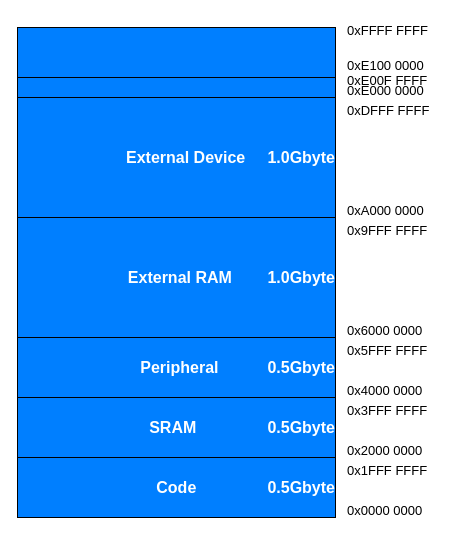
This 463x536 diagram has some shape labels left out. The centre of each missing label's shape, as x and y in pixels:
"Private perpheral bus 1Mbyte" goes at point 176,87.
"Vendor-specific memory 511Mbyte" goes at point 176,52.
